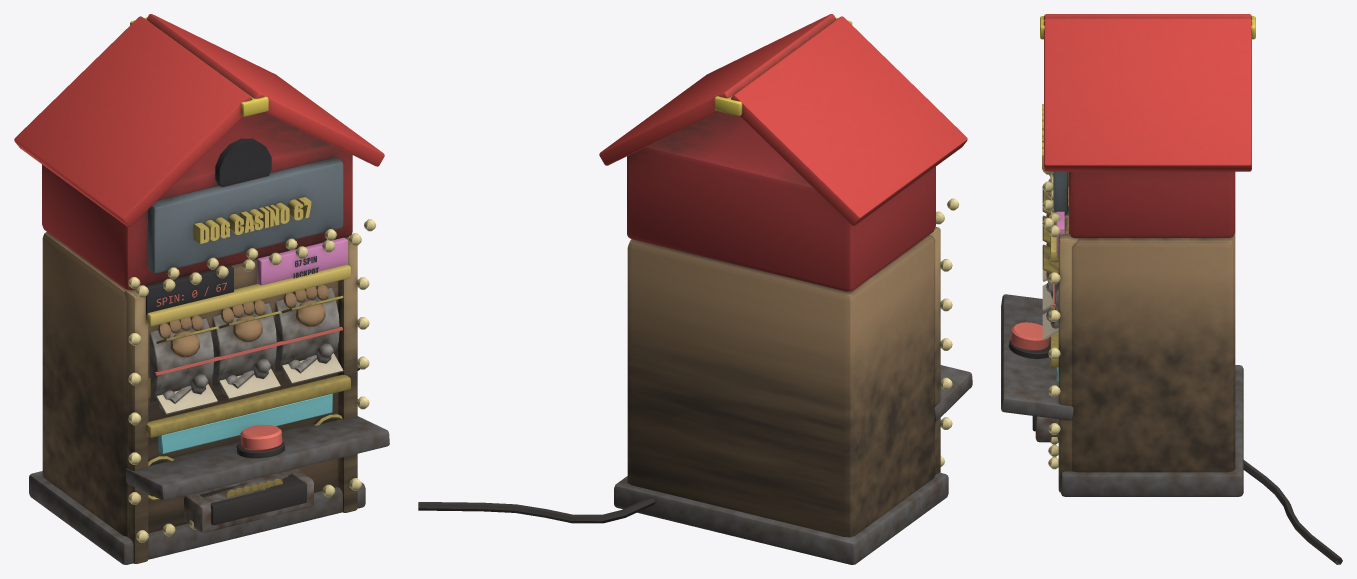
Rendered from g67_pz_slot_machine.glb.
The picture shows the model from 3 angles, left to right: view 1: azimuth 30°, elevation 25°; view 2: azimuth 150°, elevation 25°; view 3: azimuth 270°, elevation 25°; orthographic projection. The views are drawn at different scales.
Visible parts, largest first — view 1: g67_pz_slot_machine, casino_reel_01, casino_reel_02, casino_reel_03, bulbs_a, bulbs_b, spin_button; view 2: g67_pz_slot_machine, bulbs_a; view 3: g67_pz_slot_machine, bulbs_b, spin_button, casino_reel_03, casino_reel_02, bulbs_a.
Boxes of the visible parts, x1,y1,x2,y2 form: g67_pz_slot_machine: (14,14,389,564); casino_reel_01: (150,315,217,414); casino_reel_02: (212,300,280,399); casino_reel_03: (275,284,343,383); bulbs_a: (128,219,376,542); bulbs_b: (136,229,369,536); spin_button: (240,425,282,450); g67_pz_slot_machine: (418,14,972,564); bulbs_a: (940,198,959,466); g67_pz_slot_machine: (1001,14,1342,564); bulbs_b: (1042,169,1060,456); spin_button: (1010,322,1050,350); casino_reel_03: (1042,244,1058,339); casino_reel_02: (1042,215,1068,310); bulbs_a: (1042,172,1060,469).
Size of the model in its own units: 2.1 by 2.27 by 1.64.
Materials: 1 (1 with a texture image).
